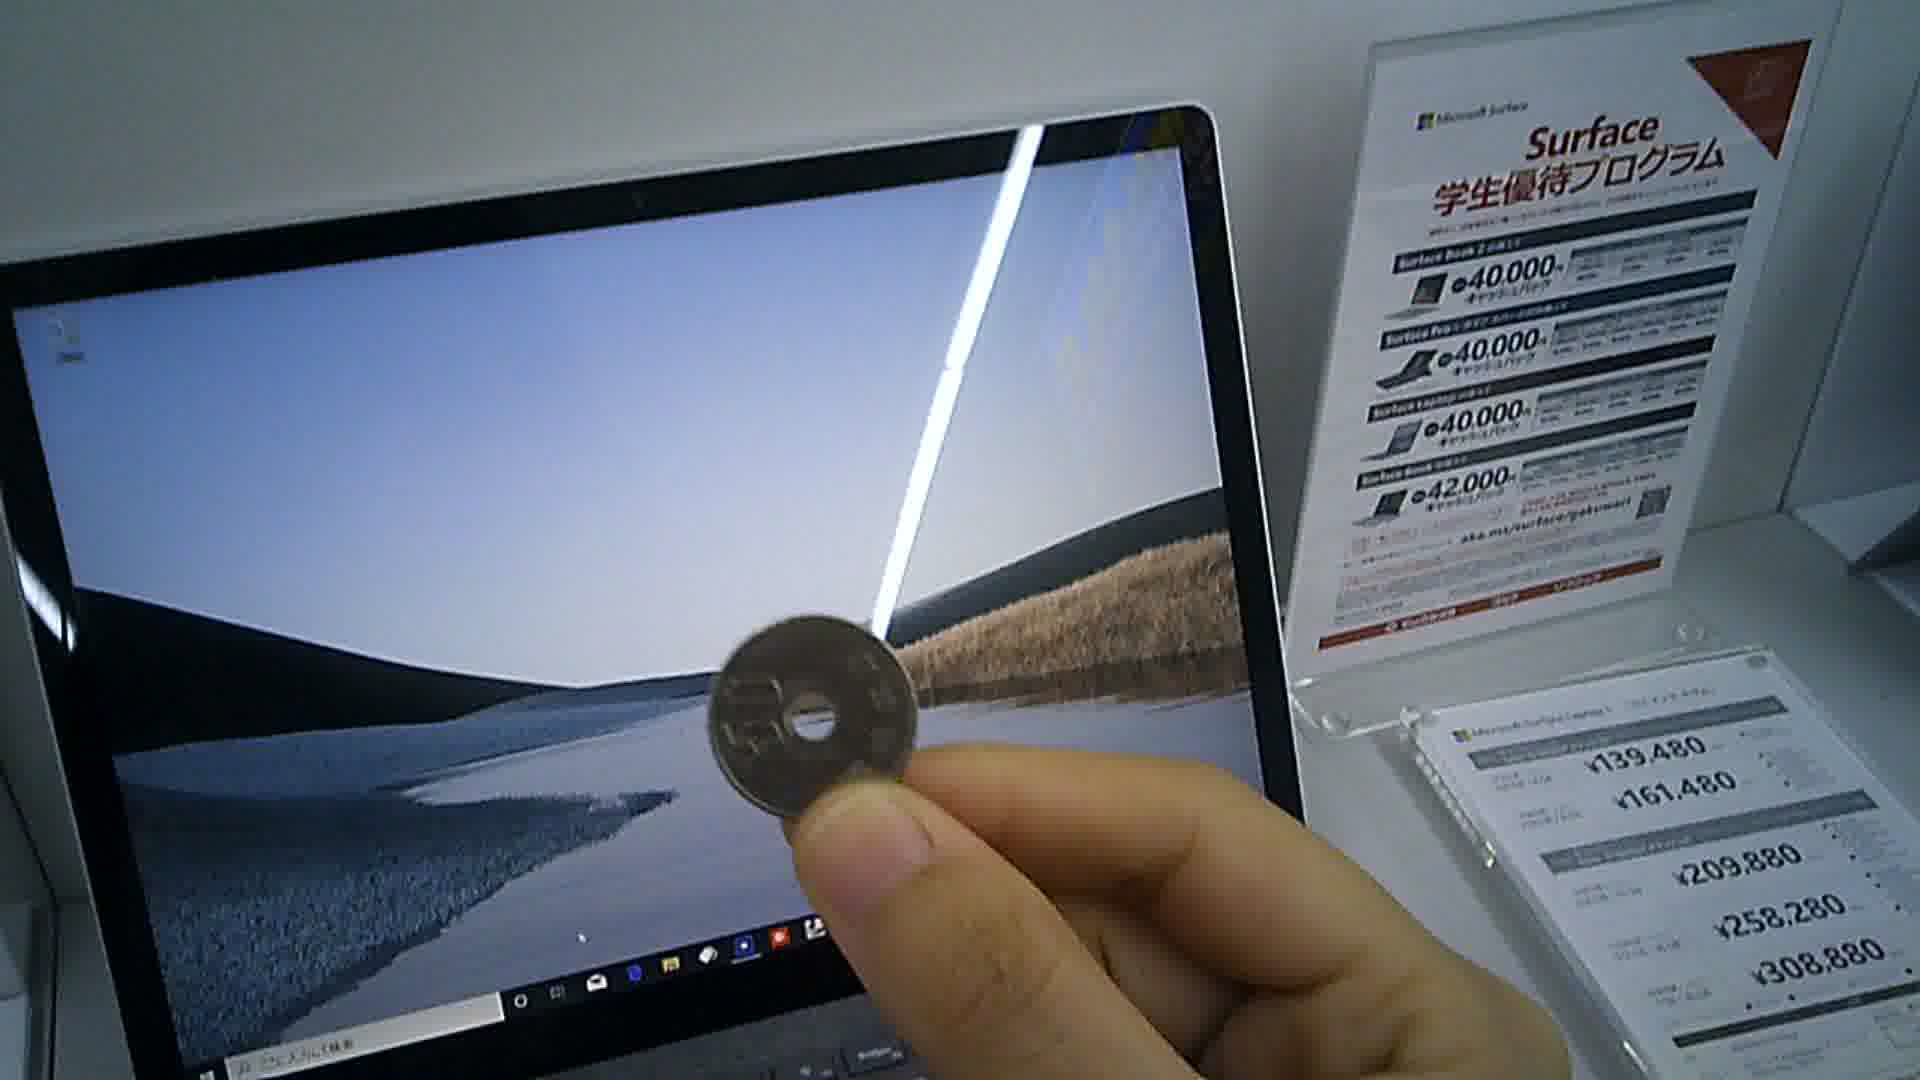50 Yen: (695, 609, 924, 822)
